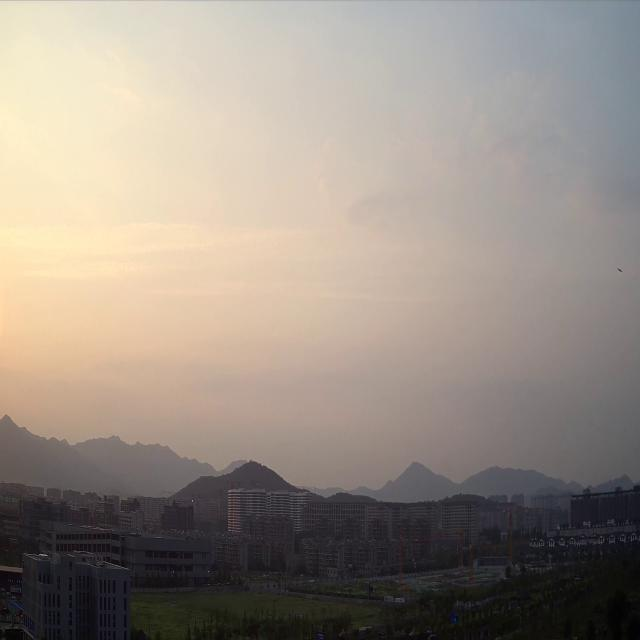drone: (618, 266, 624, 272)
